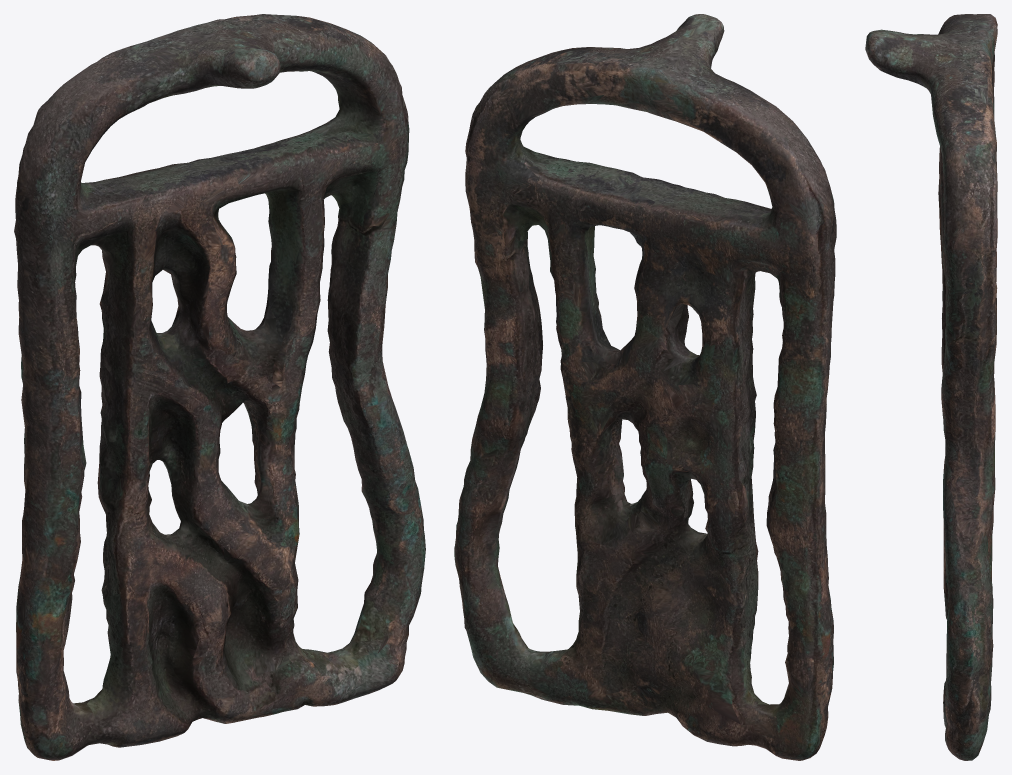
The model's file is buckle2_low_re.glb.
3 views of the same model, side by side, from view 1: azimuth 30°, elevation 25°; view 2: azimuth 150°, elevation 25°; view 3: azimuth 270°, elevation 25° (orthographic). The views are drawn at different scales.
Parts seen in each view (by area): view 1: Model; view 2: Model; view 3: Model.
Part boxes in pixels (x1,y1,x2,y2): Model: [14, 14, 425, 760]; Model: [454, 14, 836, 760]; Model: [865, 14, 997, 760].
Size of the model in its own units: 2.7 by 4.61 by 0.8459.
Materials: 1 (1 with a texture image).
